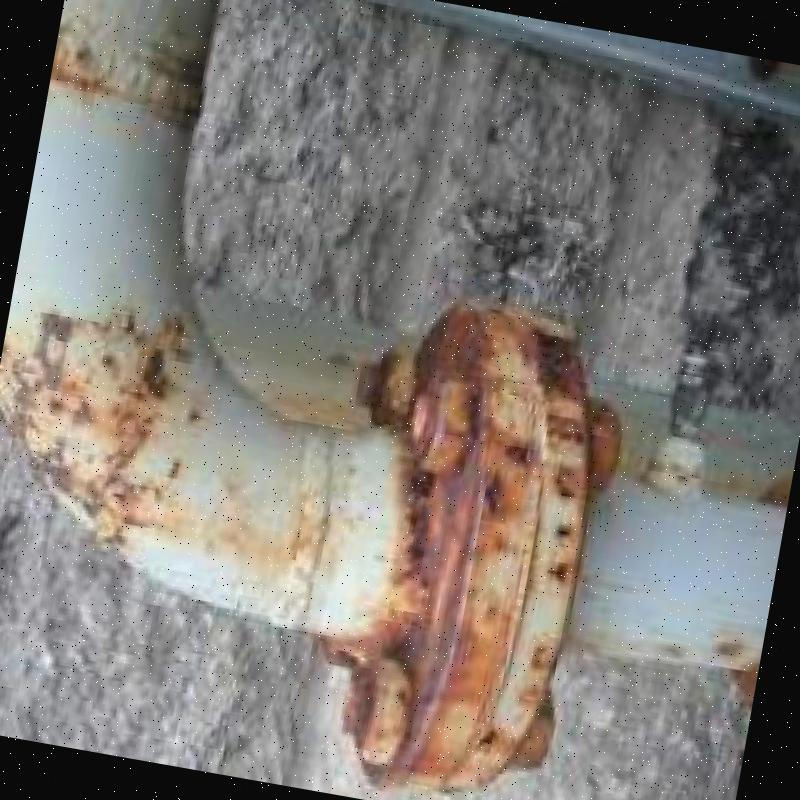corrosion: (312, 311, 667, 758), (0, 262, 207, 584)
